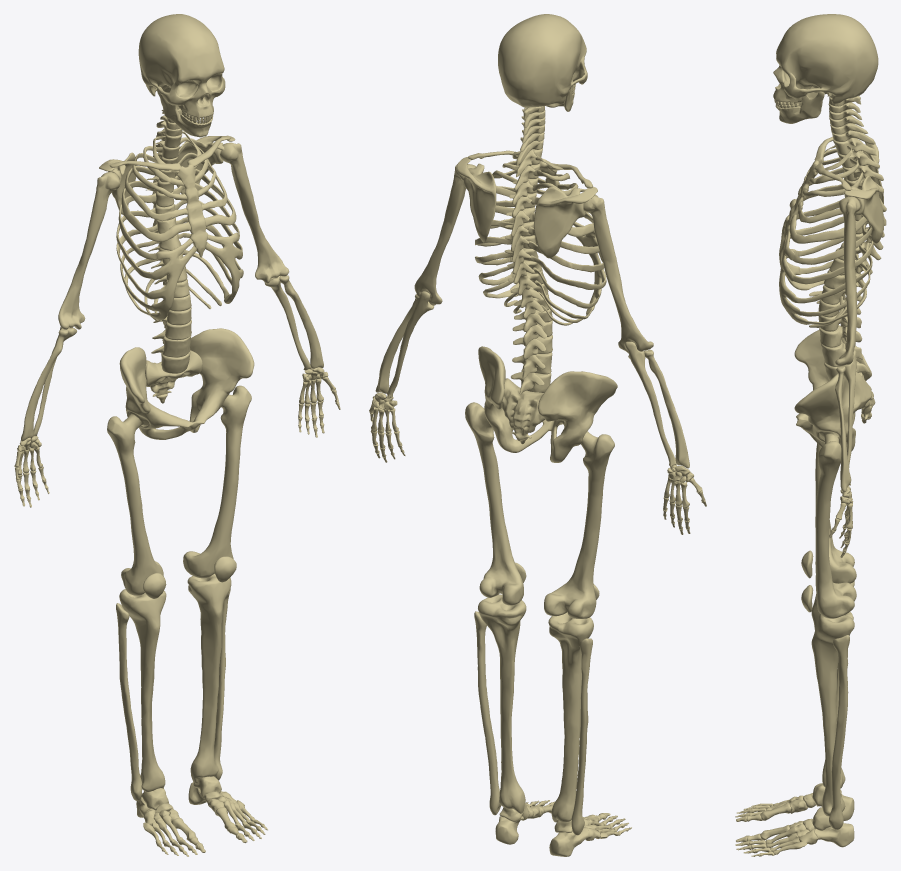
Rendered from female_human_skeleton.glb.
The picture shows the model from 3 angles, left to right: view 1: azimuth 30°, elevation 25°; view 2: azimuth 150°, elevation 25°; view 3: azimuth 270°, elevation 25°; orthographic projection. The views are drawn at different scales.
Visible parts, largest first — view 1: Object_2; view 2: Object_2; view 3: Object_2.
Boxes of the visible parts, left/top/right/bottom form: Object_2: left=14, top=14, right=340, bottom=856; Object_2: left=369, top=14, right=706, bottom=856; Object_2: left=735, top=14, right=886, bottom=856.
Bounding box in the file's own units: 6.73 × 15.87 × 2.68.
